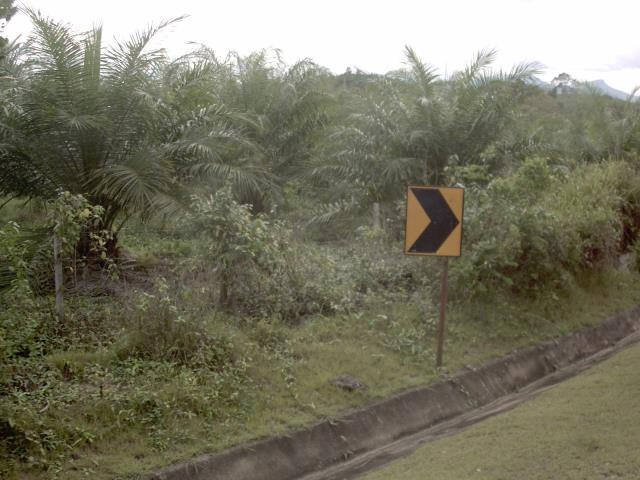traffic_sign: (394, 172, 474, 268)
